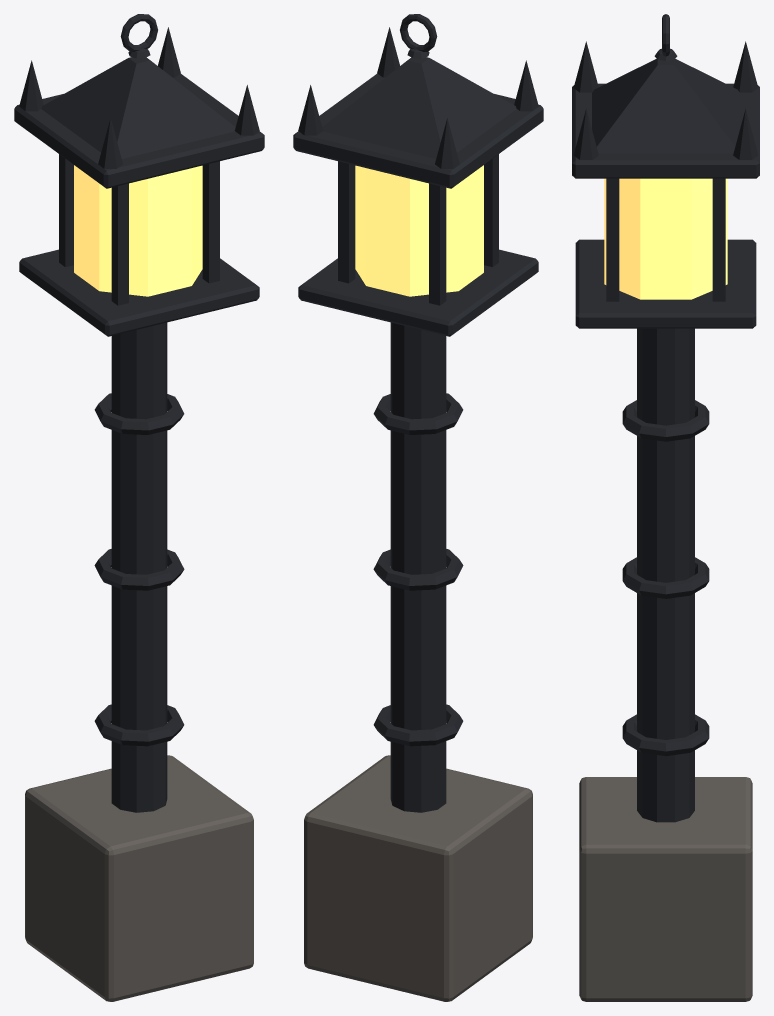
File: SM_Lamp_KeepSconce_03.fbx
3 renders of one model, left to right at view 1: azimuth 30°, elevation 25°; view 2: azimuth 150°, elevation 25°; view 3: azimuth 270°, elevation 25°, orthographic.
Visible parts, largest first — view 1: SM_Lamp_KeepSconce_03_Base, SM_Lamp_KeepSconce_03_Post, SM_Lamp_KeepSconce_03_HeadGlass, SM_Lamp_KeepSconce_03_HeadRoof, SM_Lamp_KeepSconce_03_HeadBase, SM_Lamp_KeepSconce_03_HeadCap, SM_Lamp_KeepSconce_03_HeadPost2, SM_Lamp_KeepSconce_03_HeadPost3, SM_Lamp_KeepSconce_03_Collar0, SM_Lamp_KeepSconce_03_Collar1, SM_Lamp_KeepSconce_03_Collar2, SM_Lamp_KeepSconce_03_HeadPost1 (+5 smaller); view 2: SM_Lamp_KeepSconce_03_Base, SM_Lamp_KeepSconce_03_Post, SM_Lamp_KeepSconce_03_HeadGlass, SM_Lamp_KeepSconce_03_HeadRoof, SM_Lamp_KeepSconce_03_HeadBase, SM_Lamp_KeepSconce_03_HeadCap, SM_Lamp_KeepSconce_03_HeadPost0, SM_Lamp_KeepSconce_03_HeadPost1, SM_Lamp_KeepSconce_03_Collar0, SM_Lamp_KeepSconce_03_Collar1, SM_Lamp_KeepSconce_03_Collar2, SM_Lamp_KeepSconce_03_HeadPost2 (+5 smaller); view 3: SM_Lamp_KeepSconce_03_Base, SM_Lamp_KeepSconce_03_Post, SM_Lamp_KeepSconce_03_HeadGlass, SM_Lamp_KeepSconce_03_HeadRoof, SM_Lamp_KeepSconce_03_HeadBase, SM_Lamp_KeepSconce_03_HeadCap, SM_Lamp_KeepSconce_03_Collar2, SM_Lamp_KeepSconce_03_Collar0, SM_Lamp_KeepSconce_03_Collar1, SM_Lamp_KeepSconce_03_HeadPost0, SM_Lamp_KeepSconce_03_HeadPost3, SM_Lamp_KeepSconce_03_Spike0 (+3 smaller).
Boxes of the visible parts, box(x1,y1,x2,y2) form: SM_Lamp_KeepSconce_03_Base: box(25, 755, 253, 1001); SM_Lamp_KeepSconce_03_Post: box(111, 322, 167, 812); SM_Lamp_KeepSconce_03_HeadGlass: box(74, 165, 202, 296); SM_Lamp_KeepSconce_03_HeadRoof: box(41, 57, 235, 158); SM_Lamp_KeepSconce_03_HeadBase: box(19, 249, 259, 336); SM_Lamp_KeepSconce_03_HeadCap: box(14, 73, 264, 188); SM_Lamp_KeepSconce_03_HeadPost2: box(111, 183, 128, 305); SM_Lamp_KeepSconce_03_HeadPost3: box(202, 161, 219, 283); SM_Lamp_KeepSconce_03_Collar0: box(94, 704, 184, 746); SM_Lamp_KeepSconce_03_Collar1: box(94, 549, 184, 590); SM_Lamp_KeepSconce_03_Collar2: box(94, 393, 184, 434); SM_Lamp_KeepSconce_03_HeadPost1: box(59, 154, 73, 266); SM_Lamp_KeepSconce_03_Base: box(304, 755, 532, 1001); SM_Lamp_KeepSconce_03_Post: box(390, 322, 446, 812); SM_Lamp_KeepSconce_03_HeadGlass: box(355, 165, 483, 296); SM_Lamp_KeepSconce_03_HeadRoof: box(322, 57, 516, 158); SM_Lamp_KeepSconce_03_HeadBase: box(298, 249, 538, 336); SM_Lamp_KeepSconce_03_HeadCap: box(293, 73, 543, 188); SM_Lamp_KeepSconce_03_HeadPost0: box(338, 161, 355, 283); SM_Lamp_KeepSconce_03_HeadPost1: box(429, 183, 446, 305); SM_Lamp_KeepSconce_03_Collar0: box(373, 704, 463, 746); SM_Lamp_KeepSconce_03_Collar1: box(373, 549, 463, 590); SM_Lamp_KeepSconce_03_Collar2: box(373, 393, 463, 434); SM_Lamp_KeepSconce_03_HeadPost2: box(484, 154, 498, 266); SM_Lamp_KeepSconce_03_Base: box(579, 777, 752, 1001); SM_Lamp_KeepSconce_03_Post: box(637, 328, 694, 822); SM_Lamp_KeepSconce_03_HeadGlass: box(604, 178, 727, 299); SM_Lamp_KeepSconce_03_HeadRoof: box(592, 58, 739, 153); SM_Lamp_KeepSconce_03_HeadBase: box(575, 239, 756, 328); SM_Lamp_KeepSconce_03_HeadCap: box(572, 83, 759, 178); SM_Lamp_KeepSconce_03_Collar2: box(622, 400, 709, 441); SM_Lamp_KeepSconce_03_Collar0: box(622, 714, 709, 755); SM_Lamp_KeepSconce_03_Collar1: box(622, 557, 709, 598); SM_Lamp_KeepSconce_03_HeadPost0: box(712, 178, 725, 301); SM_Lamp_KeepSconce_03_HeadPost3: box(606, 178, 619, 301); SM_Lamp_KeepSconce_03_Spike0: box(733, 109, 758, 159).
Bounding box in the file's own units: 0.325 × 1.82 × 0.325.
